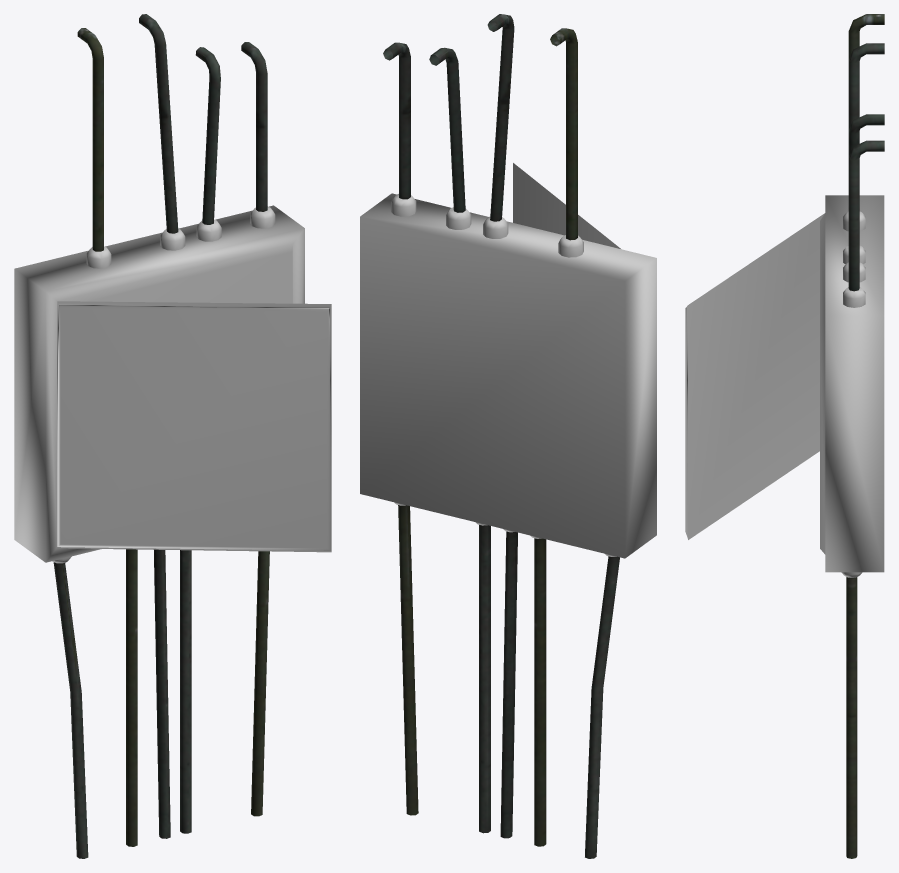
File: fuse_box_0004.fbx
3 views of the same model, side by side, from view 1: azimuth 30°, elevation 25°; view 2: azimuth 150°, elevation 25°; view 3: azimuth 270°, elevation 25° (orthographic). The views are drawn at different scales.
Visible parts, largest first — view 1: fuse_box_0004a, fuse_box_0004, wires_02, wires_01; view 2: fuse_box_0004, wires_02, wires_01, fuse_box_0004a; view 3: fuse_box_0004a, fuse_box_0004, wires_01, wires_02.
Part boxes in pixels (box(x1,y1,x2,y2)): fuse_box_0004a: box(57, 301, 331, 552); fuse_box_0004: box(14, 205, 304, 563); wires_02: box(53, 549, 269, 858); wires_01: box(77, 14, 267, 251); fuse_box_0004: box(360, 193, 656, 558); wires_02: box(398, 505, 619, 858); wires_01: box(383, 14, 577, 240); fuse_box_0004a: box(513, 163, 620, 248); fuse_box_0004a: box(685, 213, 824, 539); fuse_box_0004: box(820, 195, 884, 577); wires_01: box(848, 14, 884, 291); wires_02: box(846, 577, 857, 858).
Bounding box in the file's own units: 80 × 239 × 56.17.
